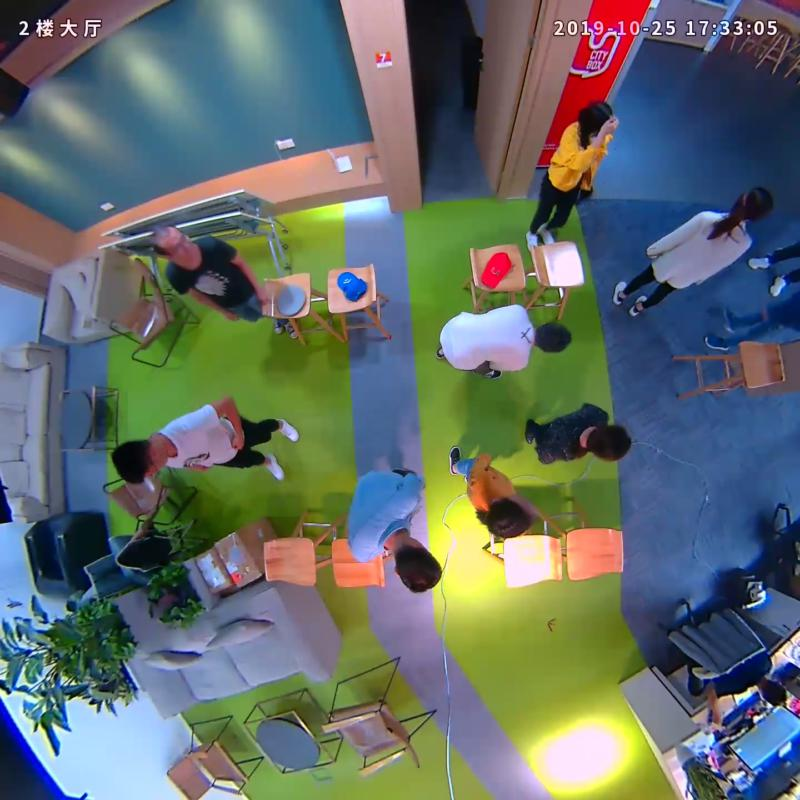head: (99, 430, 176, 486), (475, 491, 547, 547), (383, 538, 447, 595), (721, 179, 780, 232), (571, 97, 627, 151), (145, 219, 197, 269), (582, 416, 635, 464), (525, 316, 582, 359)
